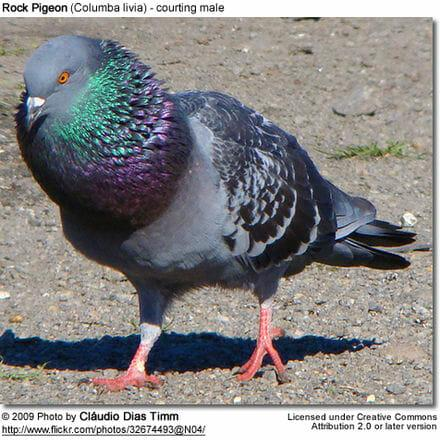Flying Rat: (17, 36, 394, 379)
